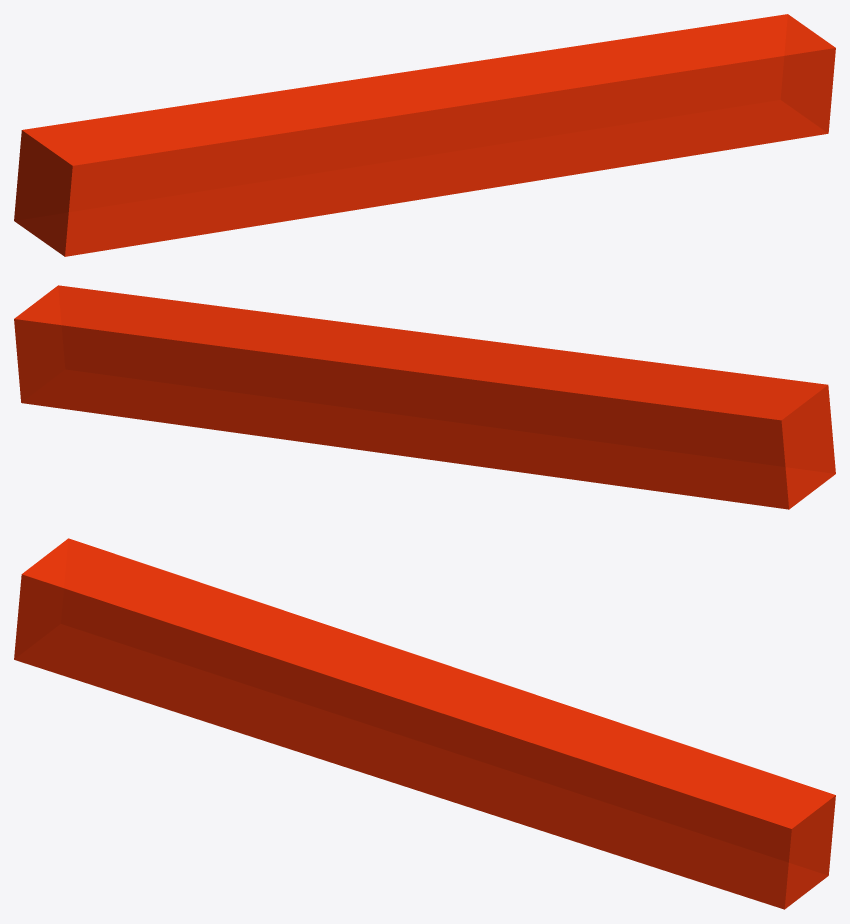
File: Event_421278790_EErechit_5.fbx
The picture shows the model from 3 angles, top to bottom: view 1: azimuth 30°, elevation 25°; view 2: azimuth 150°, elevation 25°; view 3: azimuth 330°, elevation 25°; orthographic projection. The views are drawn at different scales.
Visible parts, largest first — view 1: Model; view 2: Model; view 3: Model.
Boxes of the visible parts, <box> form: Model: <box>14,14,835,256</box>; Model: <box>14,285,835,509</box>; Model: <box>14,538,835,909</box>.
Size of the model in its own units: 0.7054 by 0.1405 by 0.0902.
